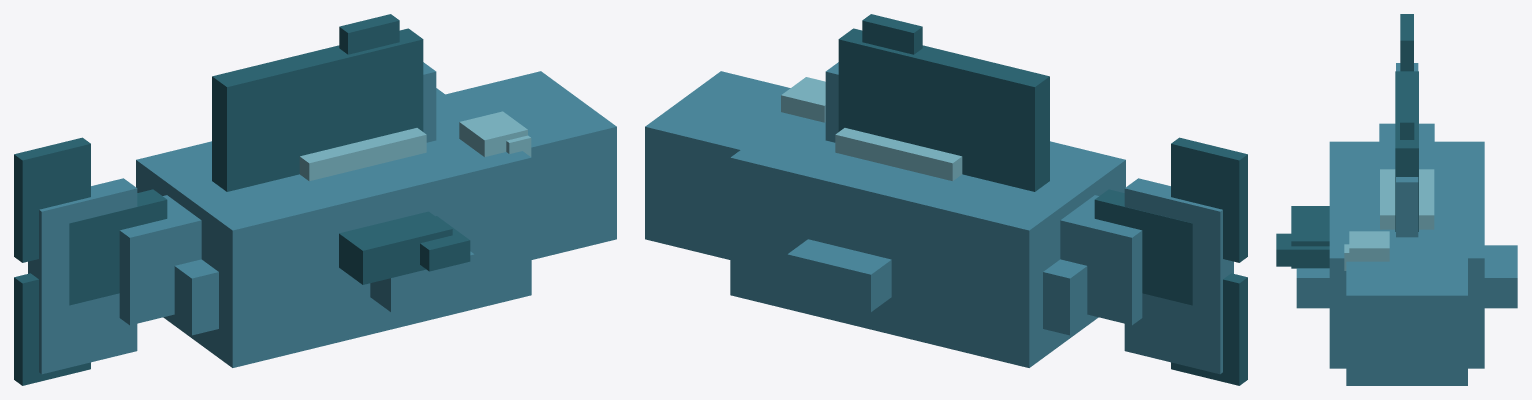
File: fish_parade_scad.glb
3 renders of one model, left to right at view 1: azimuth 30°, elevation 25°; view 2: azimuth 150°, elevation 25°; view 3: azimuth 270°, elevation 25°, orthographic. The views are drawn at different scales.
Visible parts, largest first — view 1: FishArt_body, FishArt_dorsal, FishArt_tail, FishArt_pectoral, FishArt_specialty, FishArt_eye; view 2: FishArt_body, FishArt_dorsal, FishArt_tail, FishArt_specialty, FishArt_eye; view 3: FishArt_body, FishArt_pectoral, FishArt_dorsal, FishArt_specialty, FishArt_eye, FishArt_tail.
Boxes of the visible parts, x1=… form: FishArt_body: x1=28, y1=62, x2=616, y2=374; FishArt_dorsal: x1=212, y1=14, x2=423, y2=191; FishArt_tail: x1=14, y1=137, x2=167, y2=385; FishArt_pectoral: x1=339, y1=211, x2=470, y2=284; FishArt_specialty: x1=299, y1=128, x2=426, y2=181; FishArt_eye: x1=459, y1=111, x2=531, y2=156; FishArt_body: x1=645, y1=62, x2=1233, y2=374; FishArt_dorsal: x1=838, y1=14, x2=1049, y2=191; FishArt_tail: x1=1094, y1=137, x2=1247, y2=385; FishArt_specialty: x1=835, y1=128, x2=962, y2=181; FishArt_eye: x1=781, y1=77, x2=825, y2=122; FishArt_body: x1=1296, y1=63, x2=1517, y2=385; FishArt_pectoral: x1=1276, y1=206, x2=1329, y2=268; FishArt_dorsal: x1=1395, y1=71, x2=1418, y2=231; FishArt_specialty: x1=1380, y1=169, x2=1434, y2=229; FishArt_eye: x1=1344, y1=231, x2=1389, y2=270; FishArt_tail: x1=1400, y1=14, x2=1413, y2=71.
Bounding box in the file's own units: 0.3091 × 0.1442 × 0.1439.
